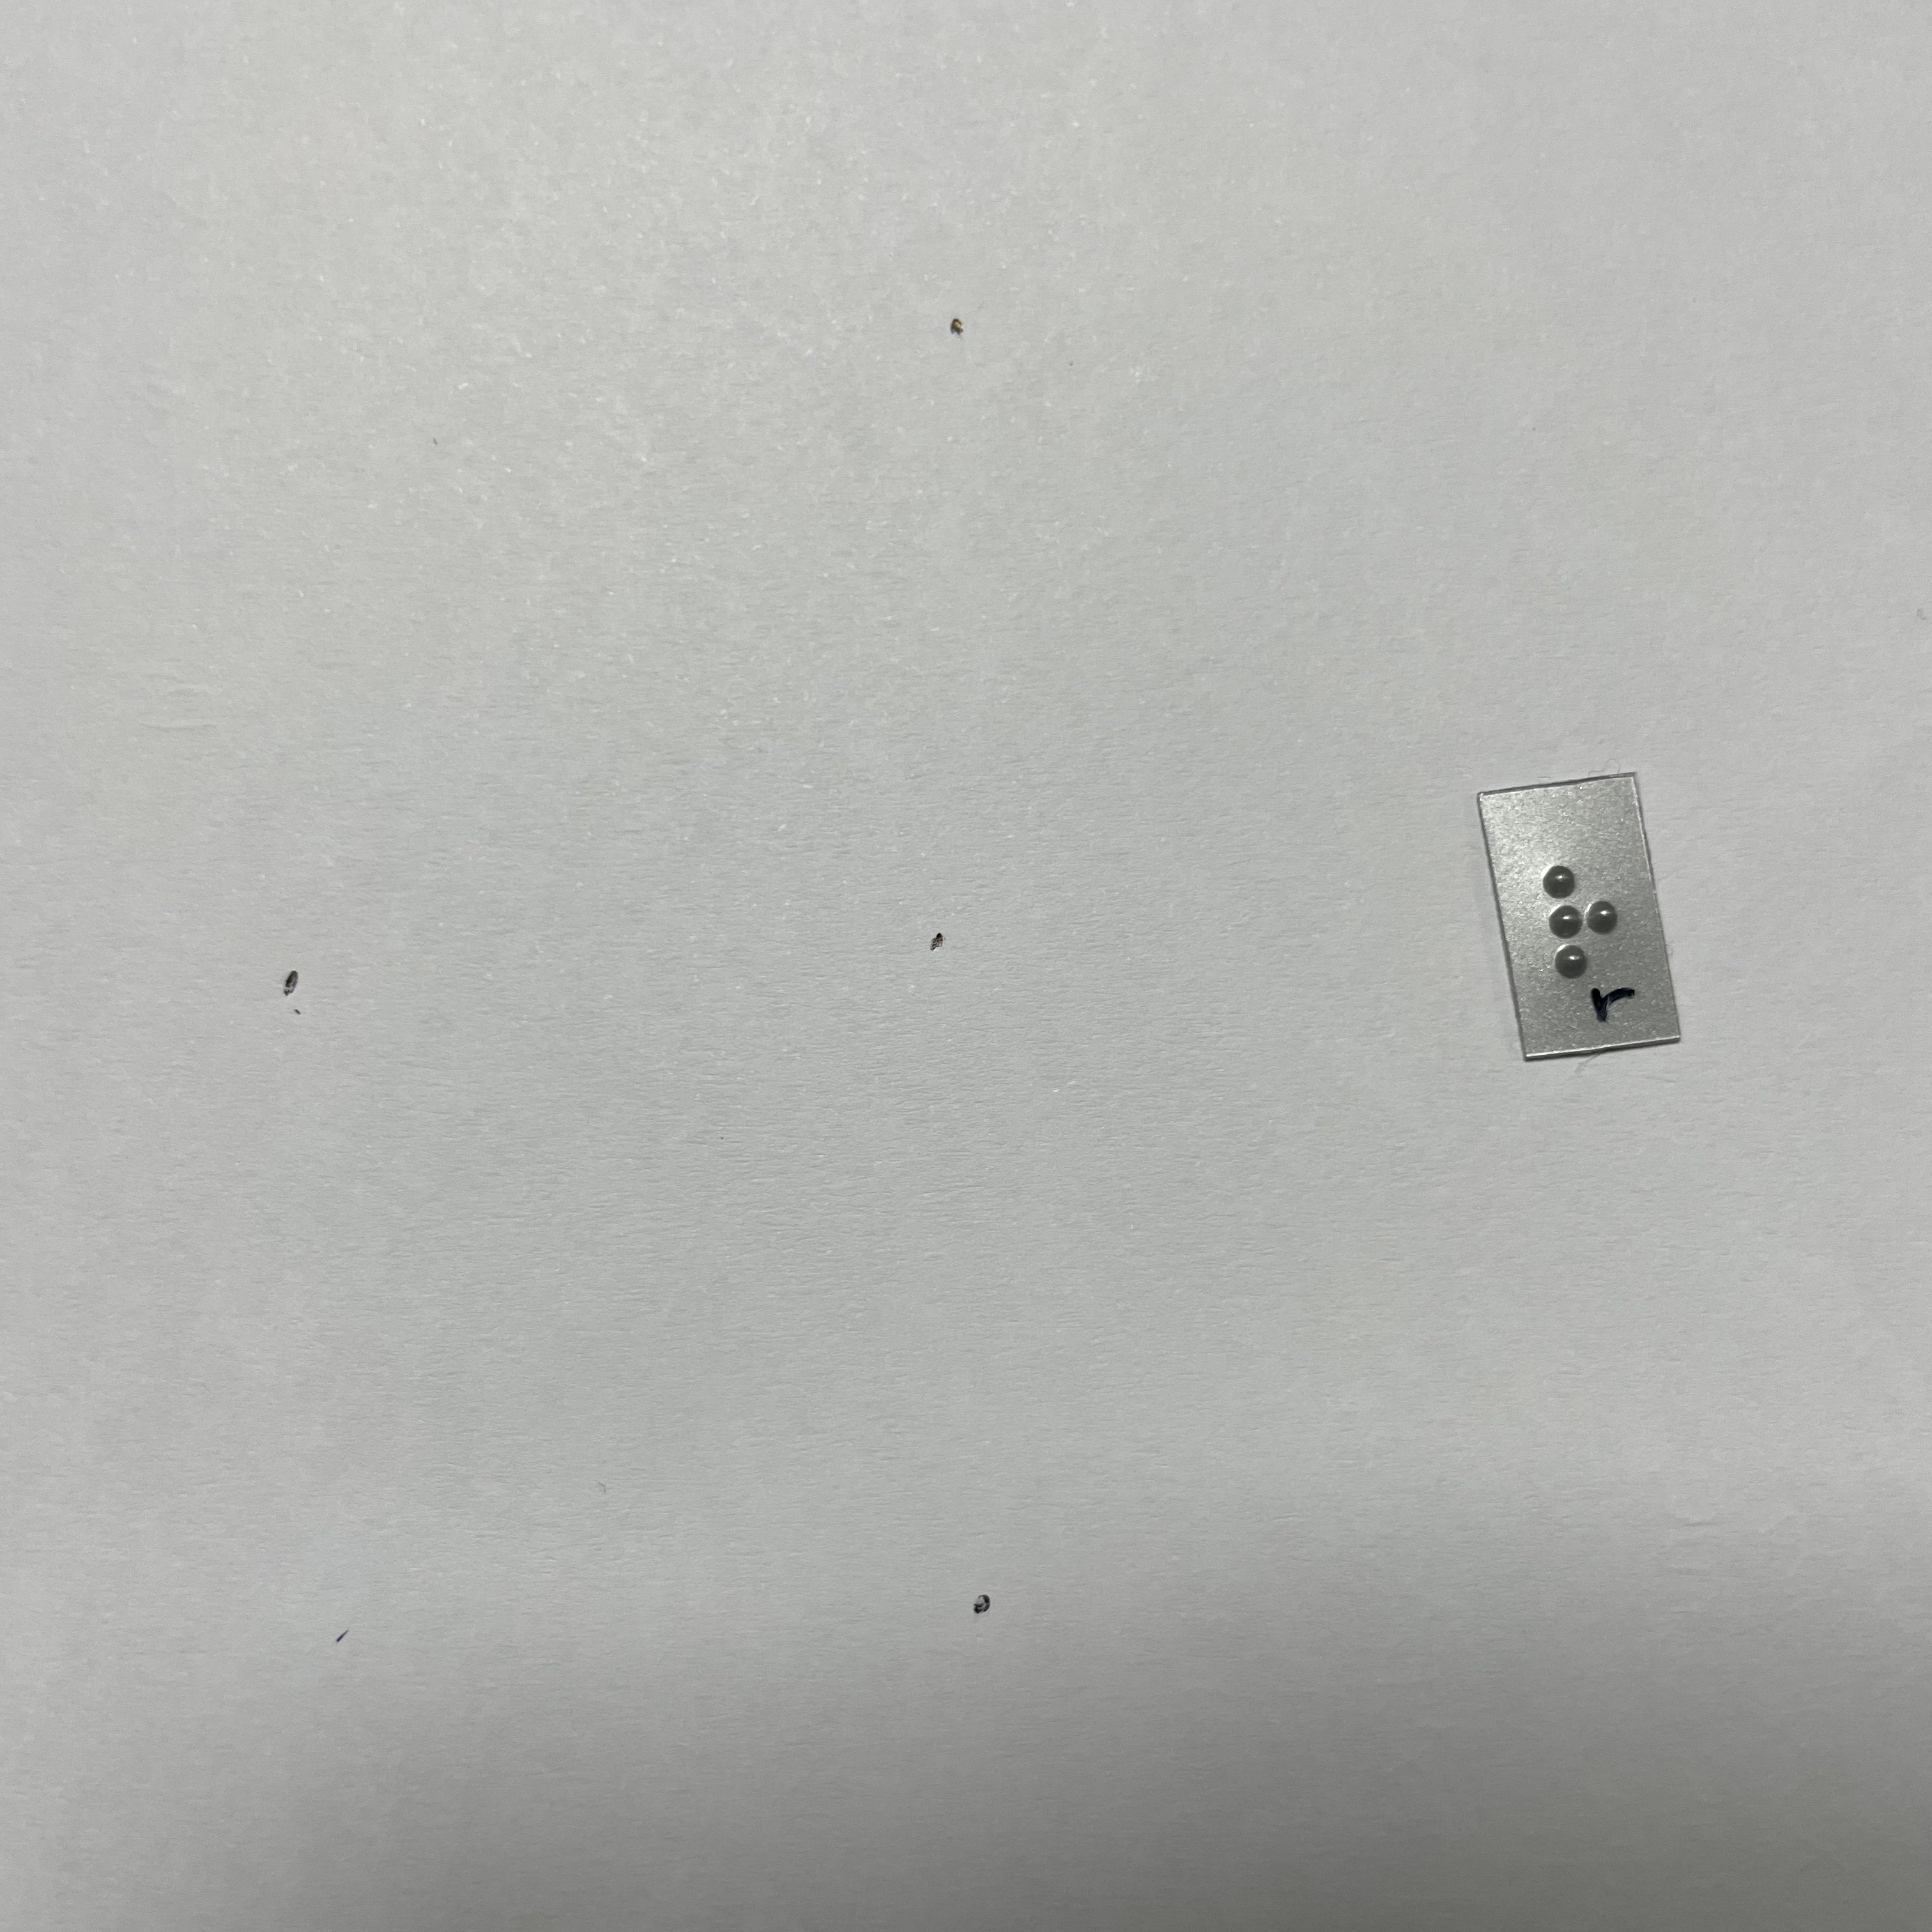r: (1531, 850, 1640, 990)
